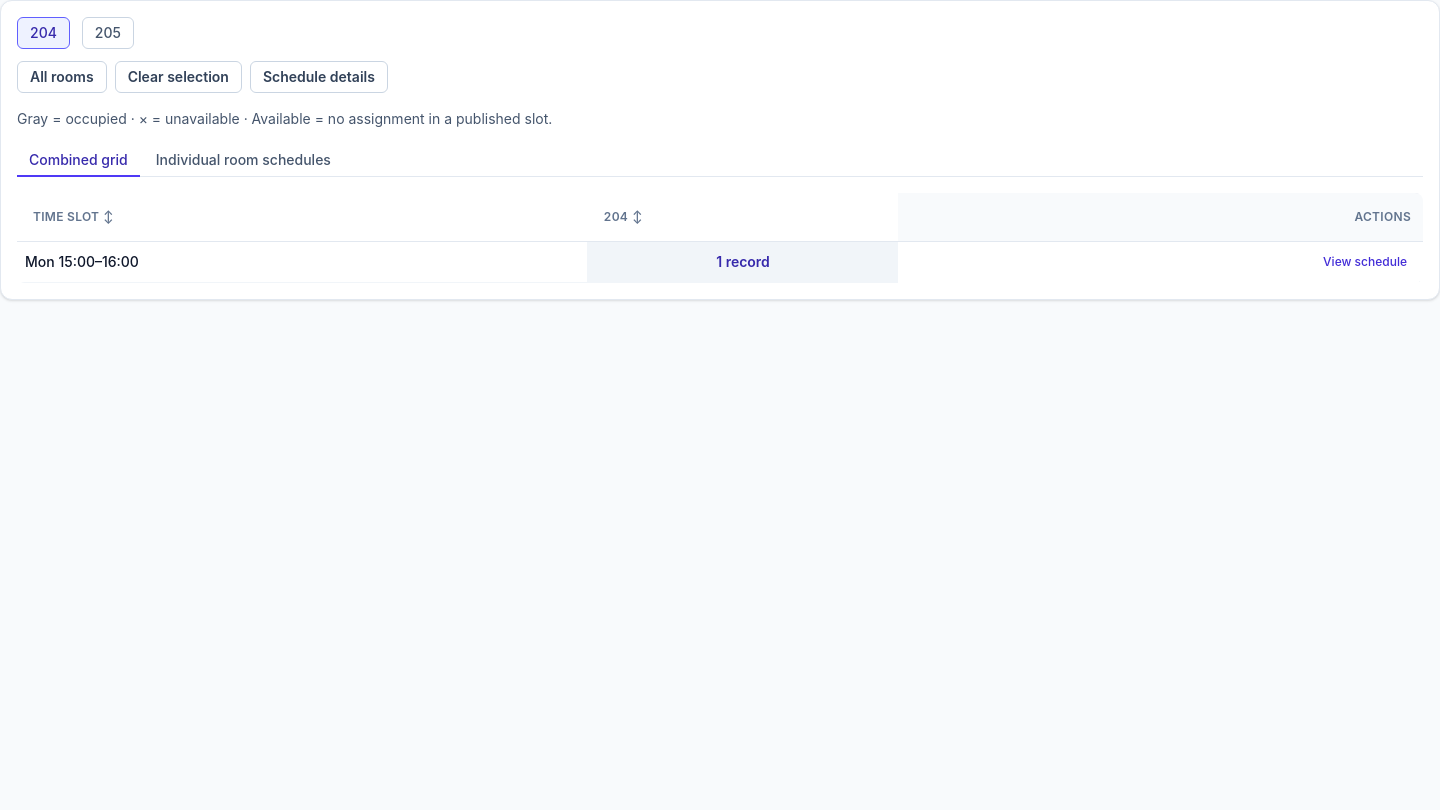
retains room comparisons but moves pairing names and block reasons into the last-column submenu
This screenshot has width=1440, height=810.
expect the text "Alex Tutor" is not shown: met
expect the text "school assembly" is not shown: met
Click the button "All rooms". click: (62, 77)
box: [17,61,107,93]
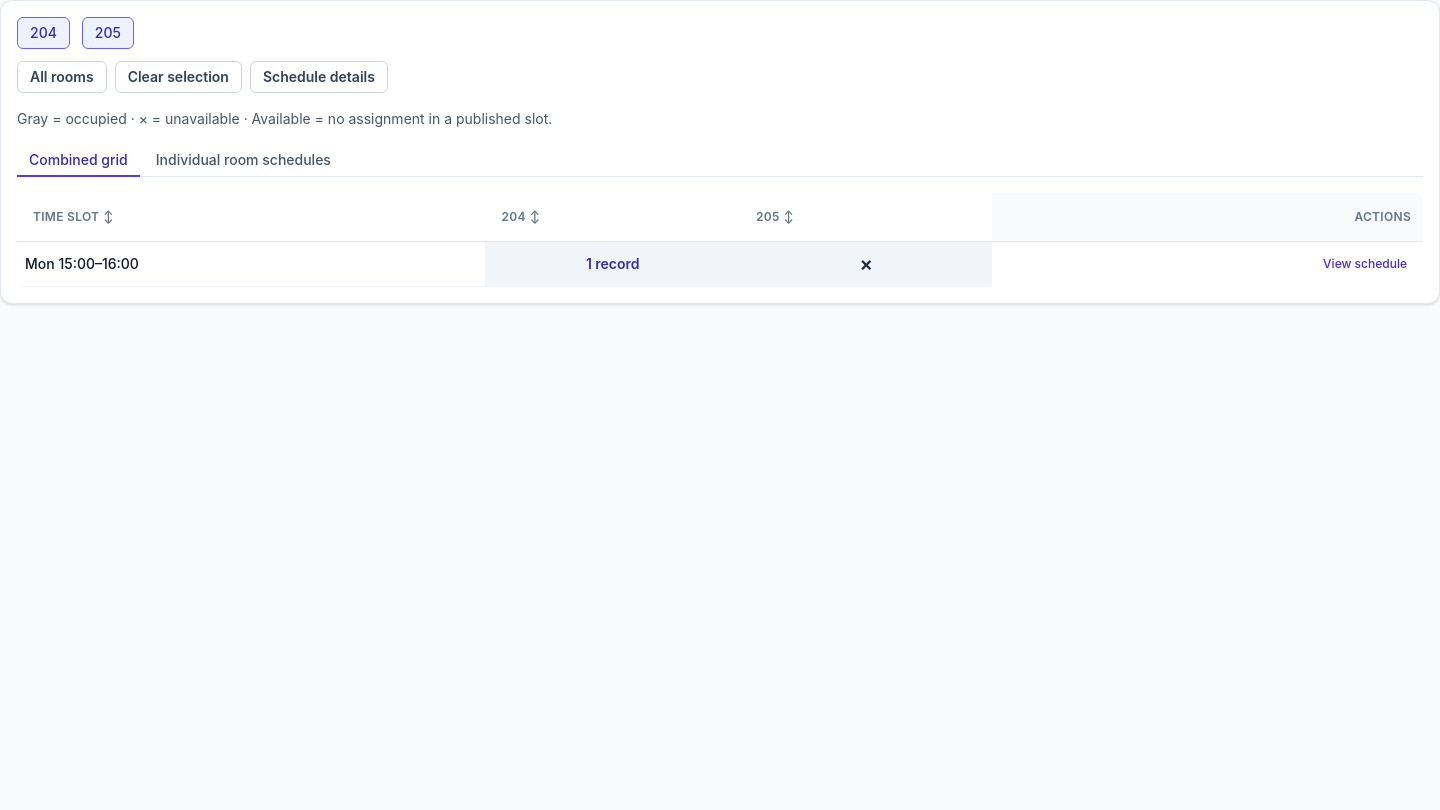
expect the text named "Unavailable" reads "×": met, box [859,252,873,276]
Click the button with aria-label "View schedule:". click: (1365, 264)
box: [1319,252,1411,276]
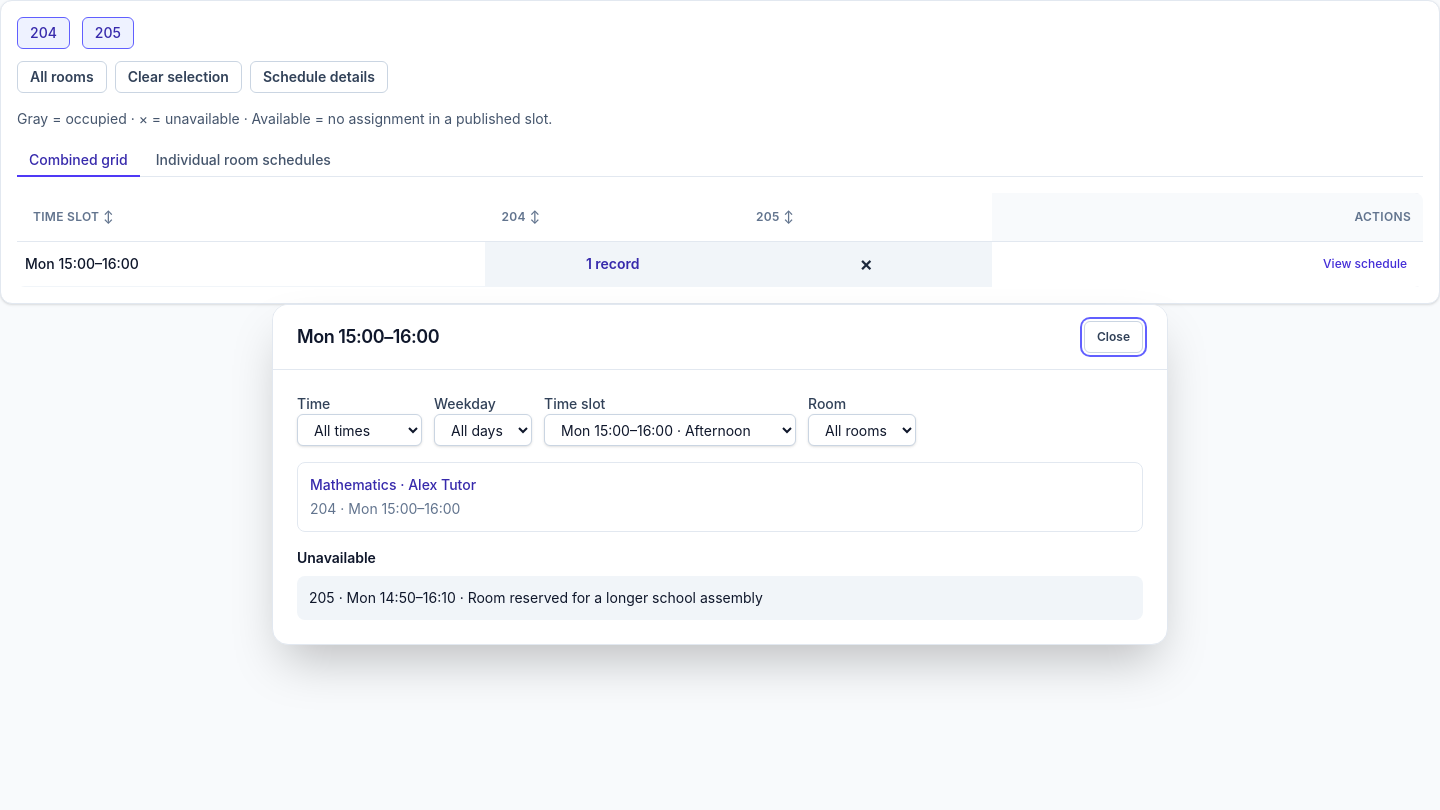
expect the text "Mathematics · Alex Tutor" is shown: met, box [310,476,476,493]
expect the list item "school assembly" is shown: met, box [456,589,763,606]
